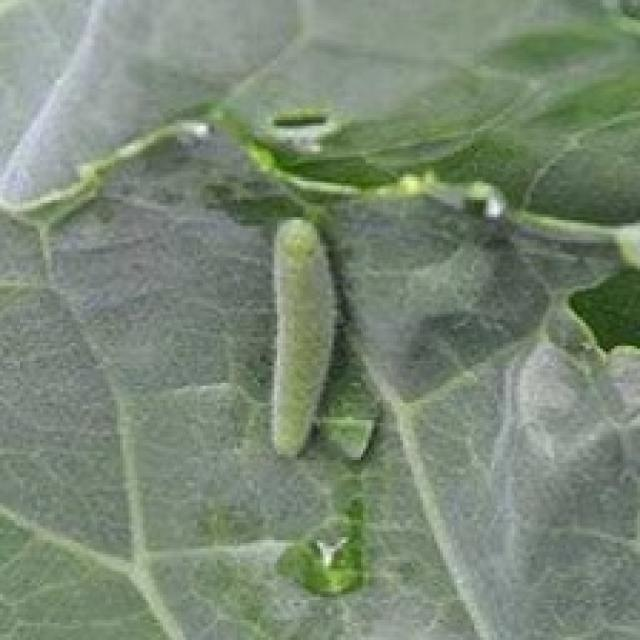Cabbage-worm: (267, 212, 353, 464)
